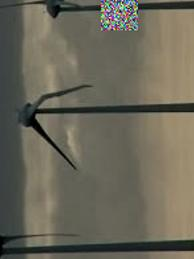faulty: (14, 83, 97, 170)
